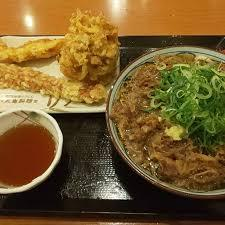kakiage: (62, 11, 119, 83)
niku: (112, 48, 225, 198)
